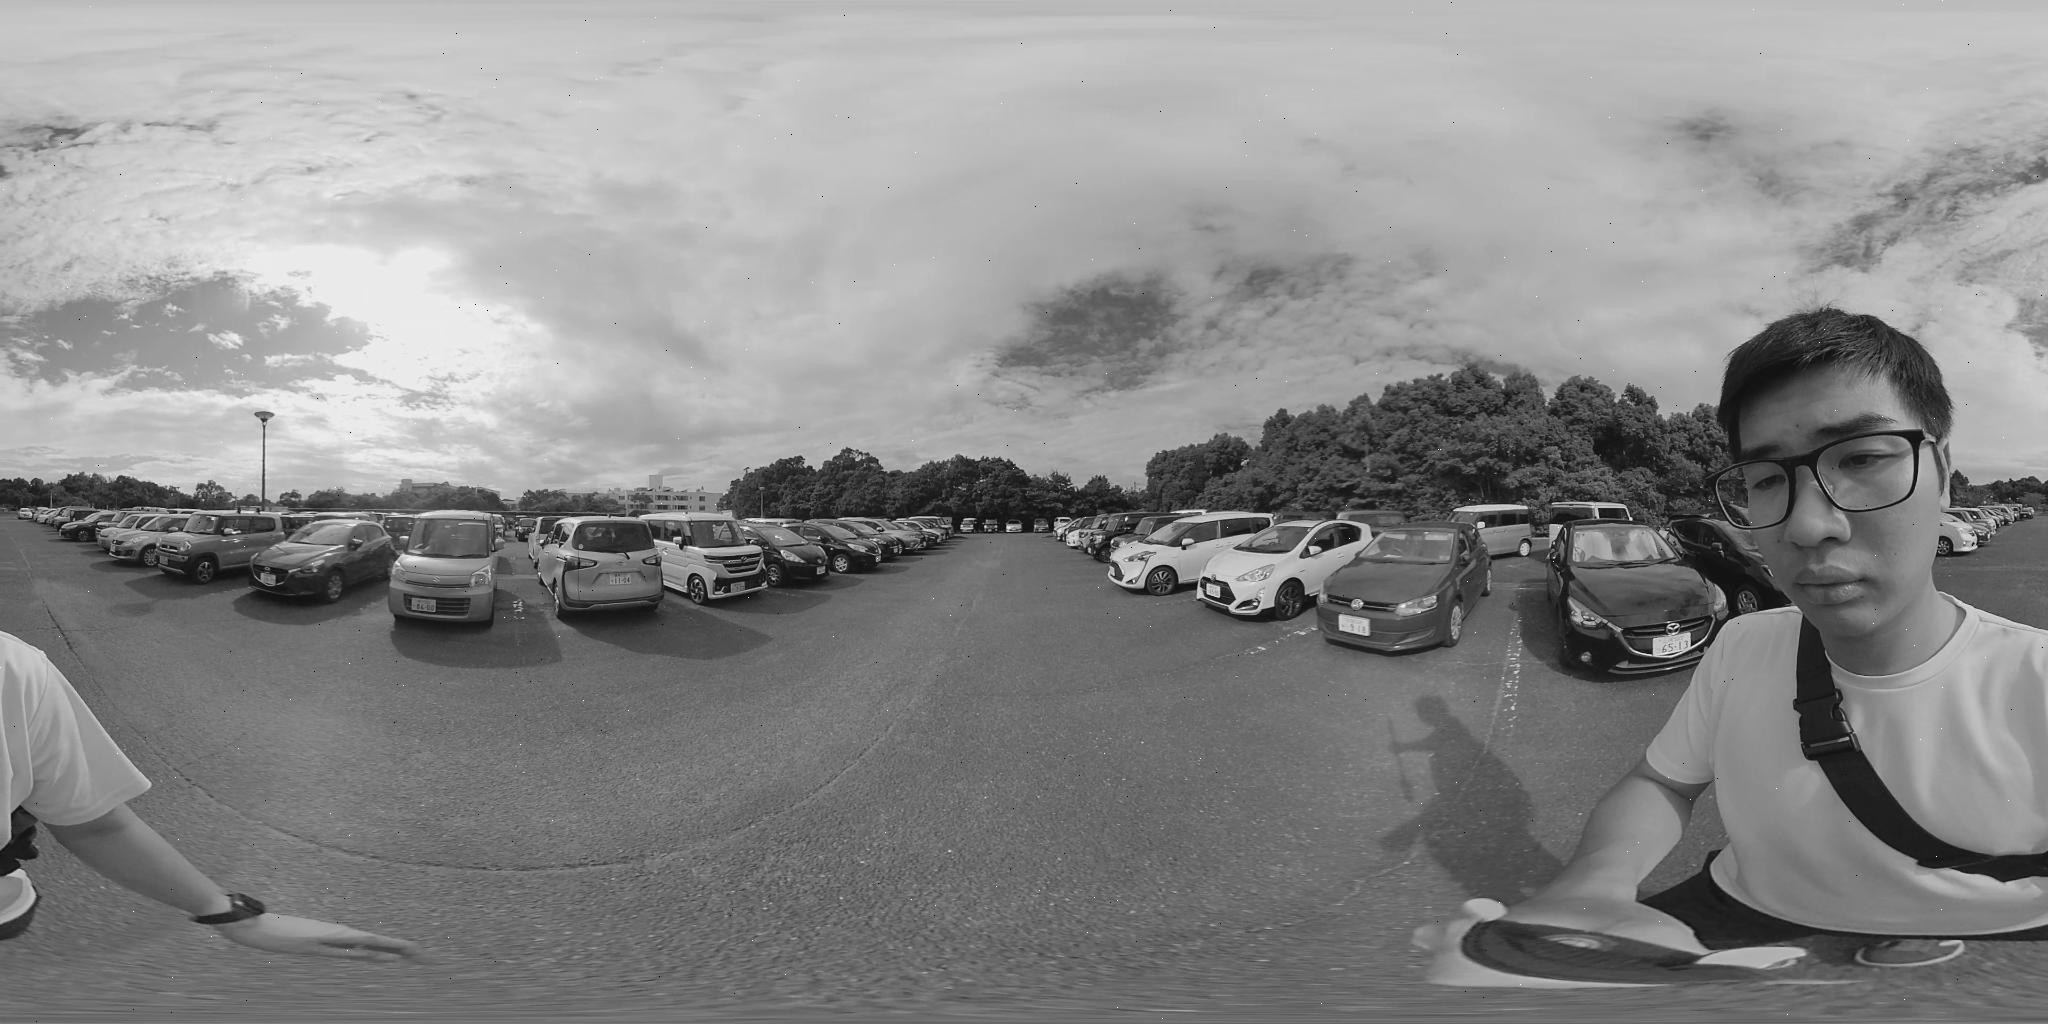car: (1541, 519, 1733, 682), (1311, 517, 1490, 654), (1192, 521, 1375, 620), (243, 522, 410, 606), (392, 509, 498, 627), (1106, 516, 1272, 590), (536, 521, 665, 615), (647, 517, 788, 601), (142, 515, 294, 581), (91, 508, 256, 563), (747, 521, 879, 576), (794, 519, 893, 568), (54, 505, 104, 536)
